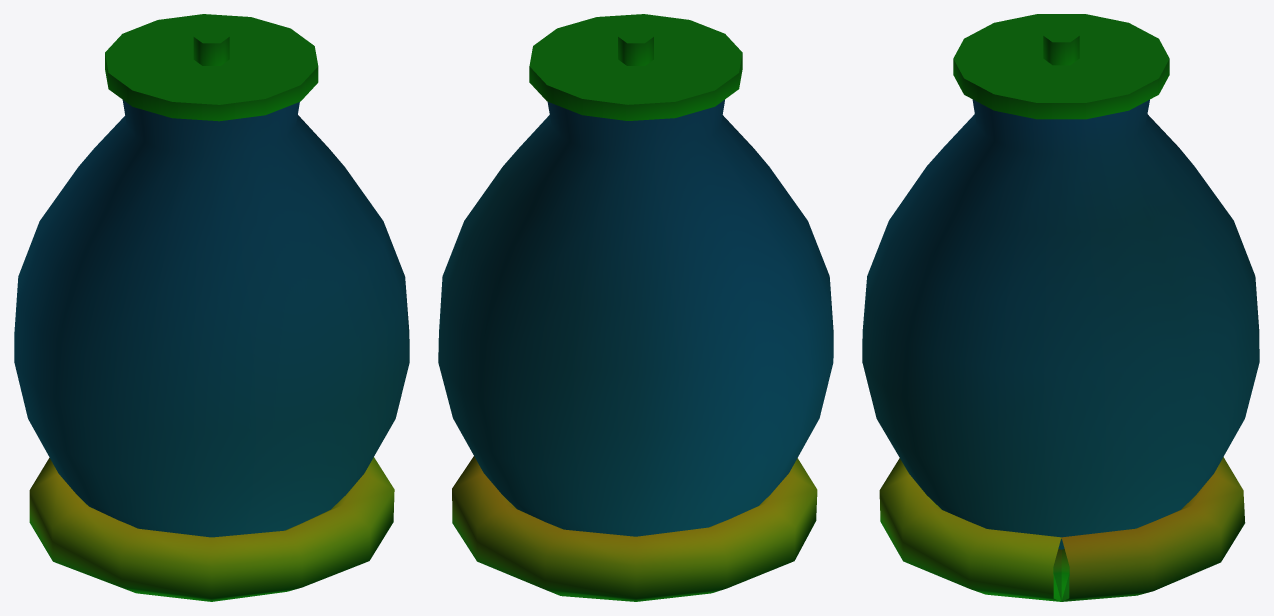
The model's file is water_jar.glb.
3 views of the same model, side by side, from view 1: azimuth 30°, elevation 25°; view 2: azimuth 150°, elevation 25°; view 3: azimuth 270°, elevation 25° (orthographic).
Parts seen in each view (by area): view 1: water_jar; view 2: water_jar; view 3: water_jar.
Part boxes in pixels (x1,y1,x2,y2): water_jar: (14, 14, 409, 601); water_jar: (438, 14, 833, 601); water_jar: (862, 14, 1259, 601).
Size of what is drawn, in the model's own units: 0.5566 by 0.7745 by 0.5506.
